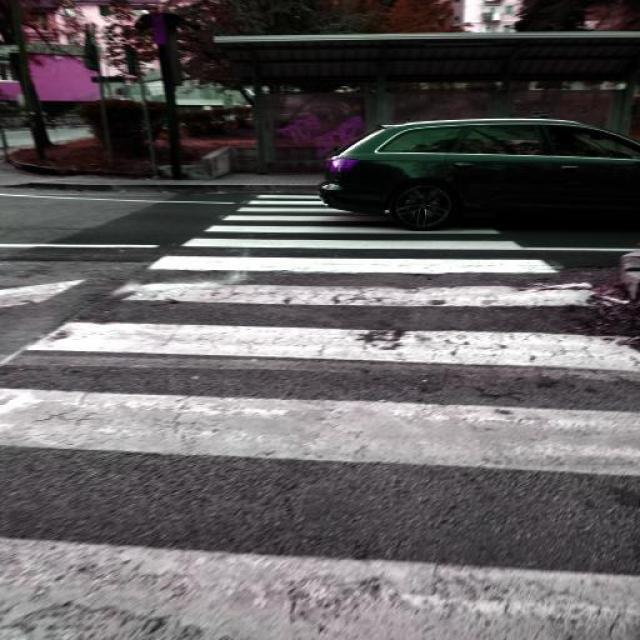crosswalk: (0, 192, 640, 578)
